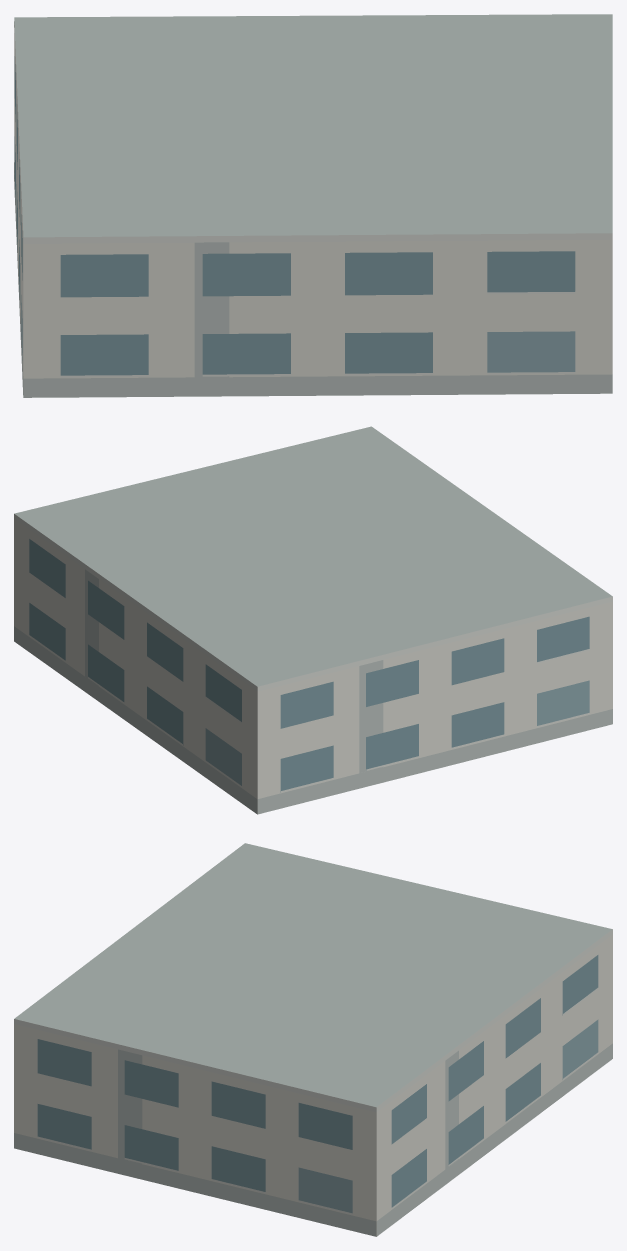
The model's file is survey-upis-32578506.glb.
3 renders of one model, top to bottom at view 1: azimuth 30°, elevation 25°; view 2: azimuth 150°, elevation 25°; view 3: azimuth 270°, elevation 25°, orthographic. The views are drawn at different scales.
Parts seen in each view (by area): view 1: survey-upis-32578506.tmp; view 2: survey-upis-32578506.tmp; view 3: survey-upis-32578506.tmp.
Boxes of the visible parts, x1,y1,x2,y2 form: survey-upis-32578506.tmp: [14, 14, 612, 397]; survey-upis-32578506.tmp: [14, 426, 612, 814]; survey-upis-32578506.tmp: [14, 843, 612, 1236].
Bounding box in the file's own units: 26.69 × 6.1 × 25.56.
